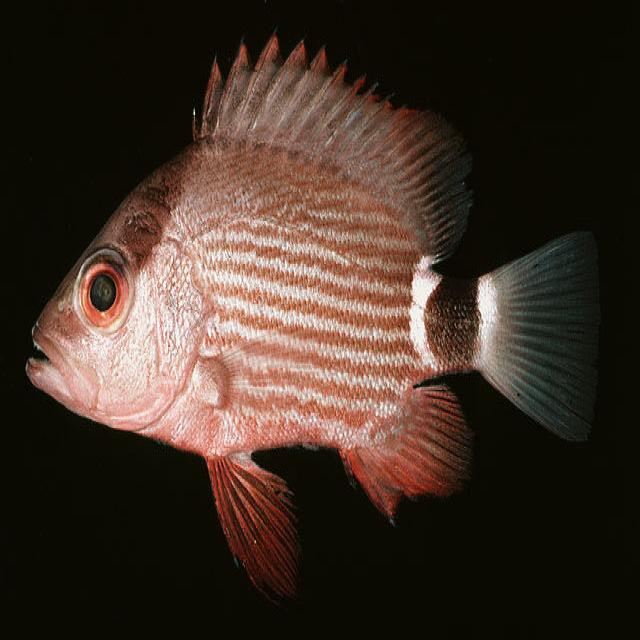ikan: (24, 26, 602, 606)
